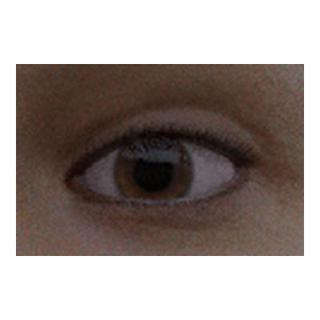pupil: (134, 153, 173, 192)
